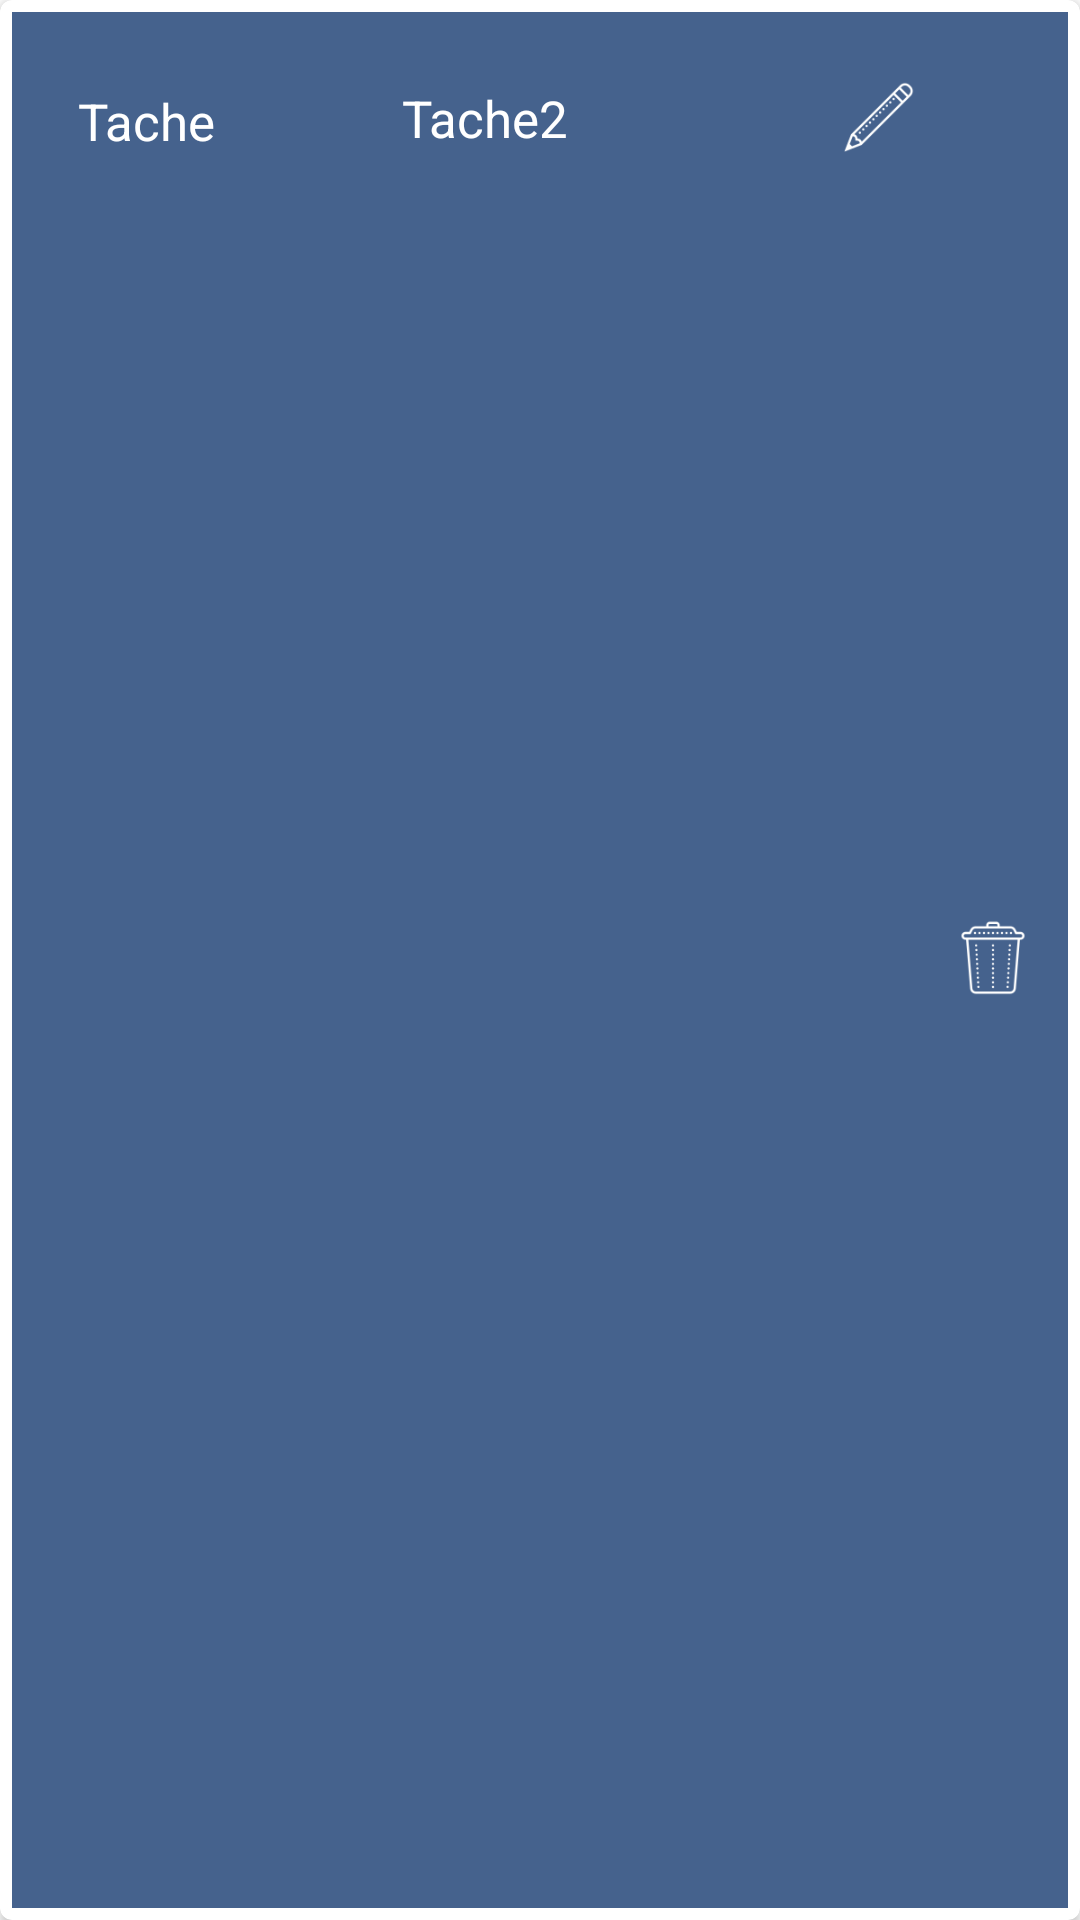

Where to tap for icons on this 1080px×1920px app screen, as (x=x, y=y):
delete rdv: (x=993, y=957)
edit rdv: (x=878, y=117)
